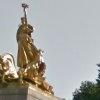Statue: (8, 3, 57, 91)
